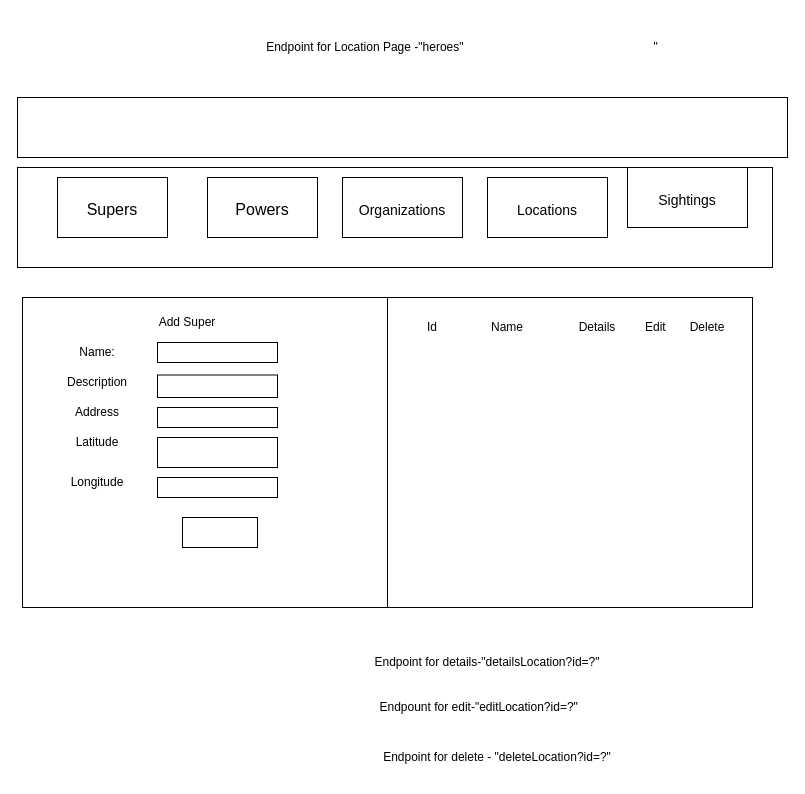
The diagram is 805 pixels wide and 794 high, and some of its shapes have lost their labels. Each missing label, with the centre of its shape:
"Add Location" belongs at [220,532].
"Superhero Sightings" belongs at [402,127].
